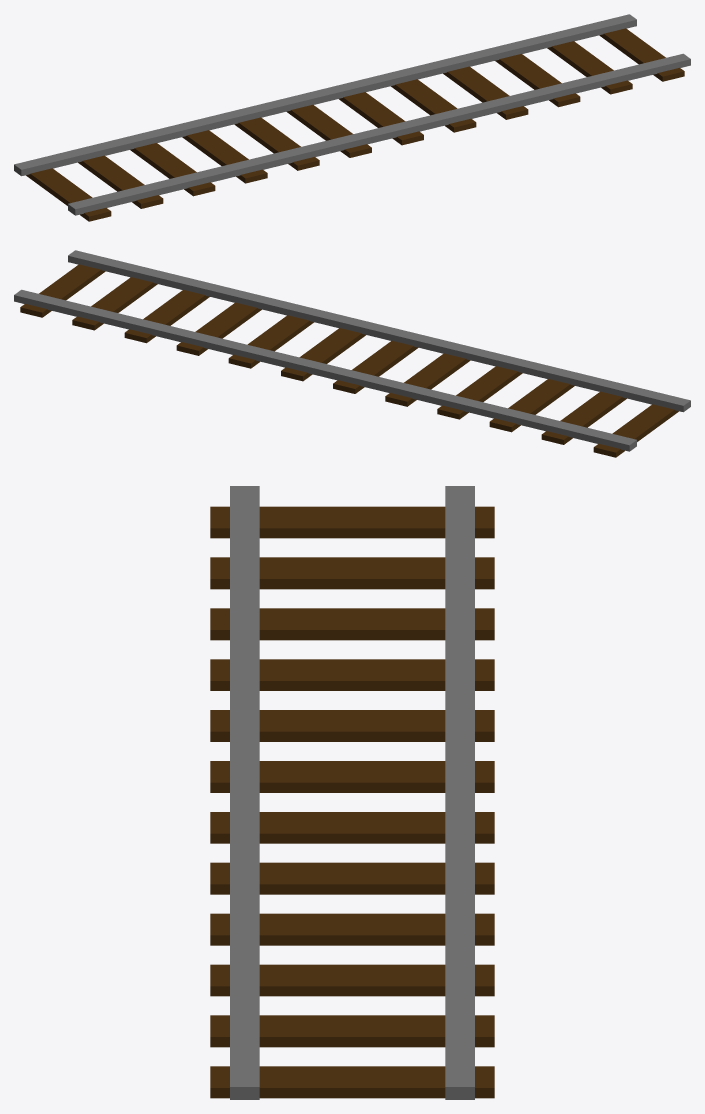
File: rails.fbx
3 views of the same model, one above another, from view 1: azimuth 30°, elevation 25°; view 2: azimuth 150°, elevation 25°; view 3: azimuth 270°, elevation 25° (orthographic). The views are drawn at different scales.
Parts seen in each view (by area): view 1: Cube.002; view 2: Cube.002; view 3: Cube.002.
Part boxes in pixels (x1=…): Cube.002: x1=14, y1=14, x2=690, y2=221; Cube.002: x1=14, y1=250, x2=690, y2=457; Cube.002: x1=210, y1=486, x2=494, y2=1099.
Size of the model in its own units: 1000 by 17.15 by 200.
